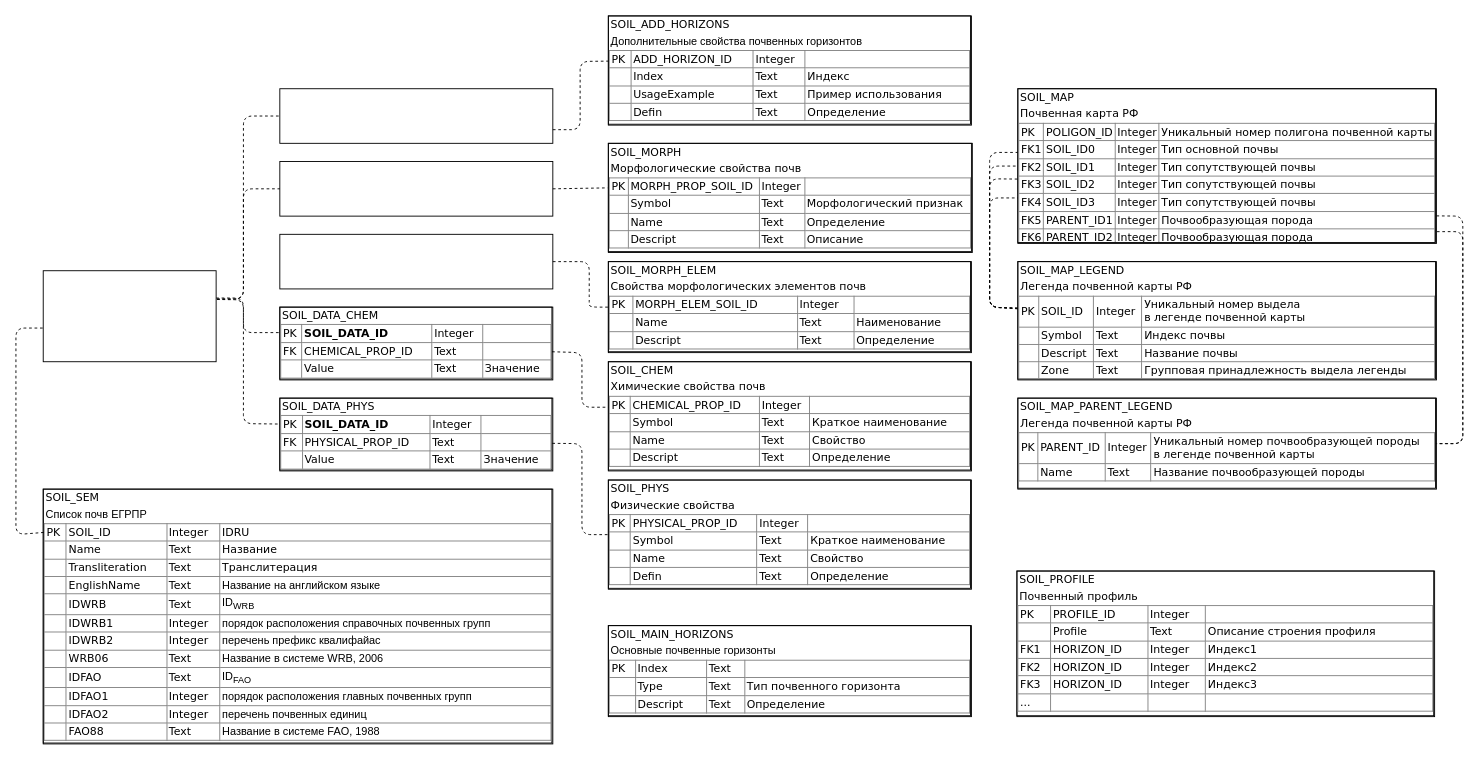
Some shapes in this 1480 by 760 pixel diagram are drawn without their labels. Each missing label, with the centre of its shape:
"SOIL_DATA PK SOIL_DATA_ID Integer CardID Integer FK SOIL_ID Integer ..." goes at point (129, 316).
"SOIL_DATA_ADD_HORIZONS PK SOIL_DATA_ID Integer FK ADD_HORIZON_ID Integer" goes at point (416, 115).
"SOIL_DATA_MORPH PK SOIL_DATA_ID Integer FK MORPH_PROP_SOIL_ID Integer" goes at point (416, 188).
"SOIL_DATA_MORPH_ELEM PK SOIL_DATA_ID Integer FK MORPH_PROP_SOIL_ID Integer" goes at point (416, 261).
